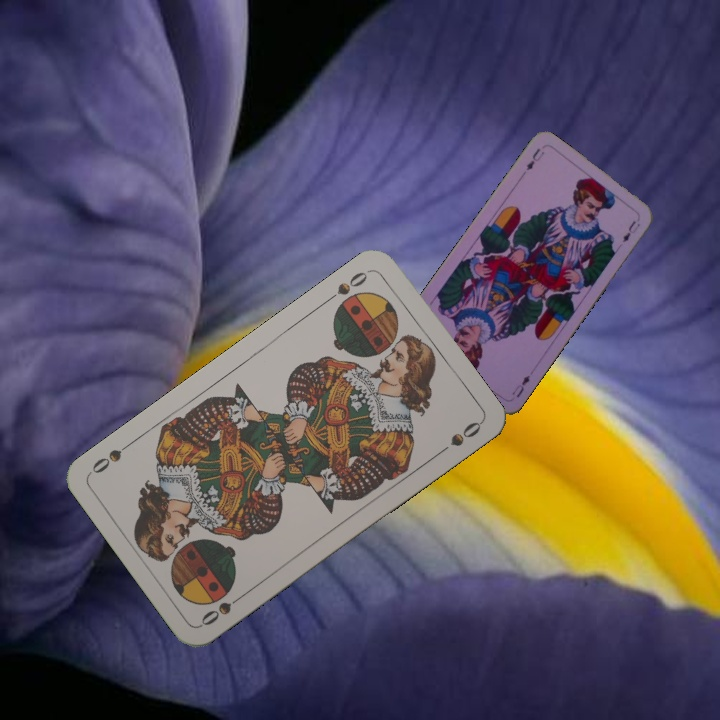EU: (508, 371, 533, 400), (522, 144, 547, 173)
SO: (196, 588, 249, 629), (321, 265, 373, 306)
